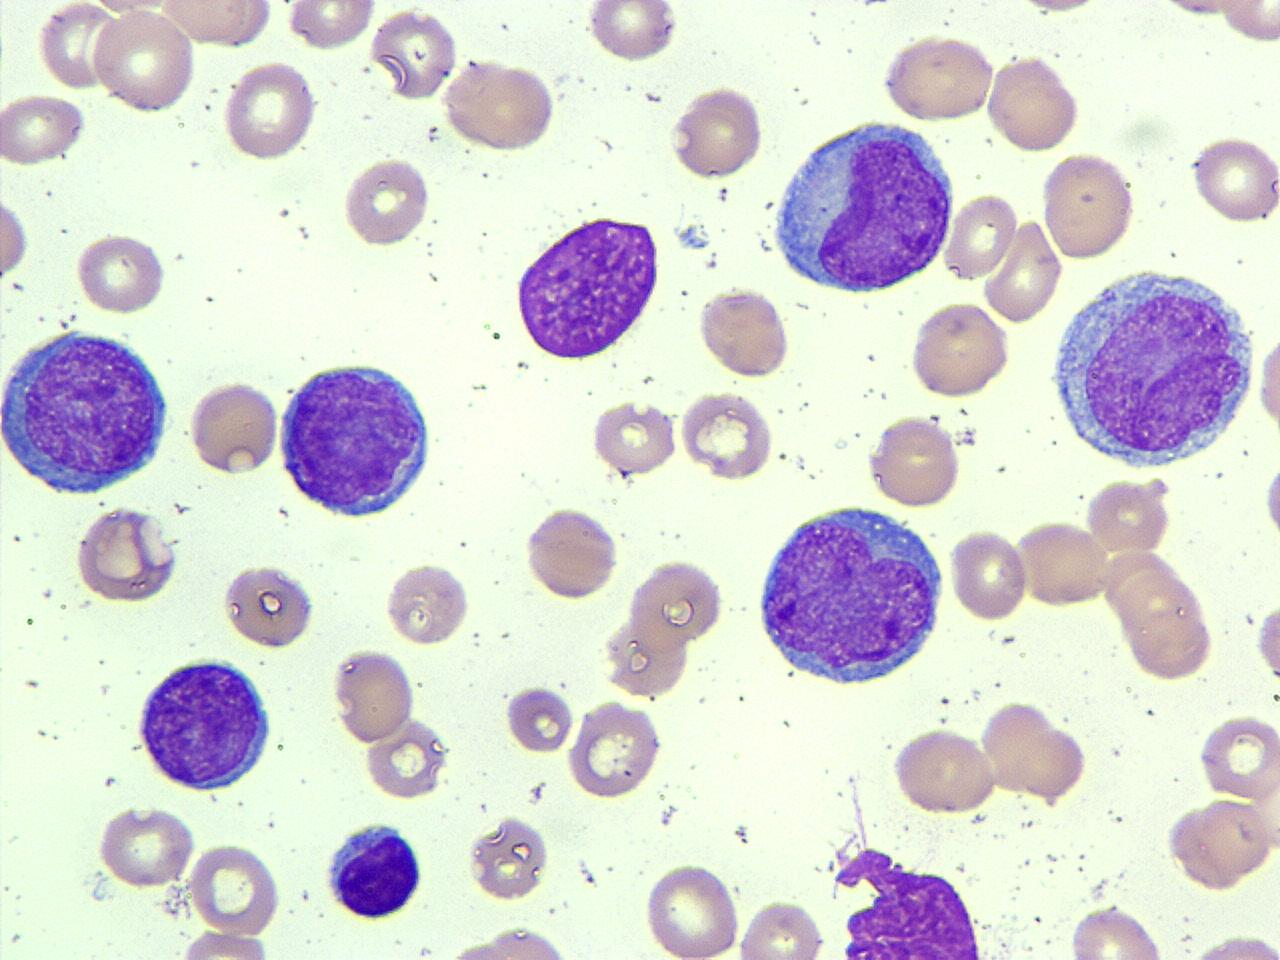Platelets: (1261, 458, 1280, 542), (675, 224, 712, 252), (1243, 610, 1257, 626)
RBC: (90, 6, 198, 116), (441, 57, 558, 153), (1038, 149, 1138, 261), (878, 31, 998, 124), (73, 504, 183, 604), (1163, 796, 1277, 890), (909, 298, 1012, 402), (640, 859, 744, 959), (984, 54, 1084, 156), (221, 58, 319, 162), (890, 726, 1000, 818), (566, 698, 664, 801), (521, 504, 622, 602), (668, 84, 767, 182), (694, 283, 794, 380), (187, 839, 284, 939), (184, 377, 280, 478), (624, 555, 726, 649), (677, 388, 777, 484), (865, 413, 965, 509), (1013, 516, 1111, 610), (220, 559, 317, 652), (982, 217, 1067, 324), (95, 803, 198, 891), (330, 644, 417, 746), (369, 6, 462, 101), (340, 154, 432, 248), (1188, 132, 1280, 226), (72, 231, 170, 316), (977, 697, 1058, 797), (948, 526, 1030, 624), (467, 812, 551, 904), (383, 559, 470, 646), (601, 615, 692, 698), (589, 396, 679, 478), (1198, 711, 1280, 801), (942, 190, 1018, 284), (36, 1, 116, 91), (1083, 476, 1173, 554), (1124, 608, 1214, 682), (0, 91, 88, 166), (363, 724, 445, 801), (1016, 718, 1089, 802), (584, 1, 680, 63), (1066, 902, 1168, 959), (735, 897, 827, 959), (159, 0, 273, 49), (502, 681, 574, 757), (284, 0, 377, 51), (452, 924, 577, 959), (173, 928, 280, 960), (1254, 328, 1280, 445), (1183, 929, 1280, 960), (0, 189, 30, 285), (1215, 0, 1279, 45), (1256, 594, 1280, 694)
WBC: (1047, 262, 1257, 474), (752, 496, 952, 690), (766, 113, 958, 298), (0, 324, 174, 500), (274, 355, 437, 523), (511, 210, 664, 366), (824, 841, 994, 960), (133, 652, 274, 795), (321, 818, 428, 922), (566, 698, 667, 800)
